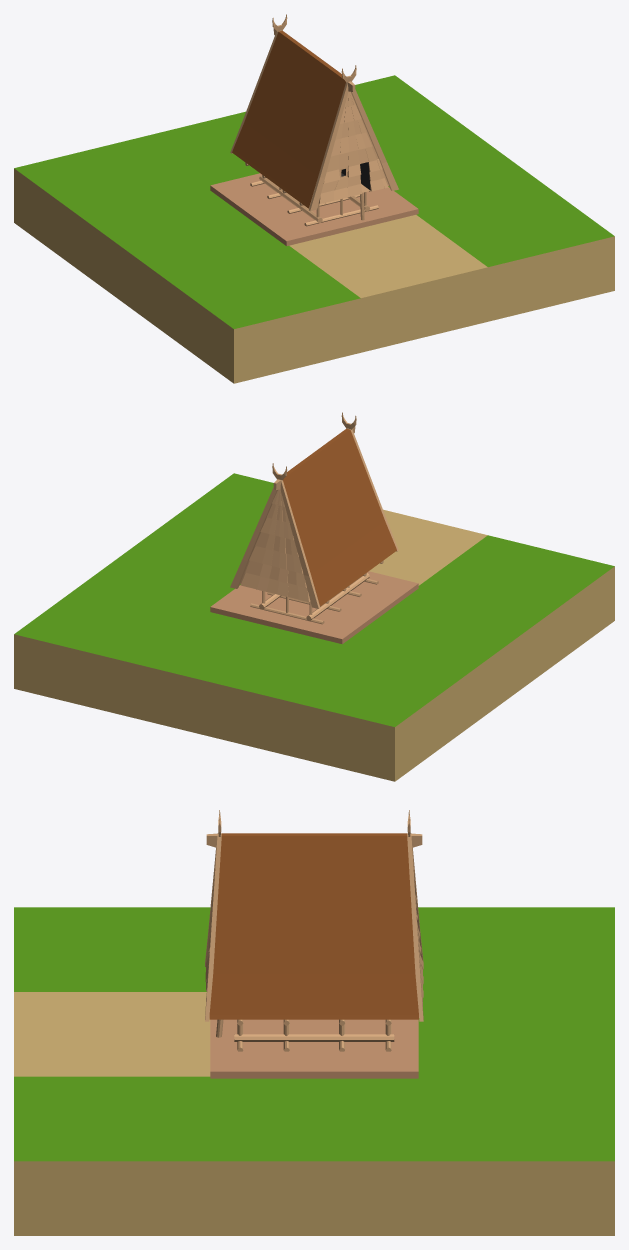
File: Tambi.fbx
3 renders of one model, top to bottom at view 1: azimuth 30°, elevation 25°; view 2: azimuth 150°, elevation 25°; view 3: azimuth 270°, elevation 25°, orthographic. The views are drawn at different scales.
Visible parts, largest first — view 1: Plane.010, Cube.107, Plane.011; view 2: Plane.010, Cube.107, Plane.011; view 3: Plane.010, Cube.107, Plane.011, Cube.094.
Part boxes in pixels (x1,y1,x2,y2): Plane.010: (14,75,614,383); Cube.107: (230,28,398,210); Plane.011: (210,173,418,246); Plane.010: (14,473,614,781); Cube.107: (230,426,398,608); Plane.011: (210,571,418,644); Plane.010: (14,907,614,1235); Cube.107: (205,833,423,1021); Plane.011: (210,1019,418,1078); Cube.094: (234,1034,394,1041).
Size of the model in its own units: 648 by 350 by 648.
